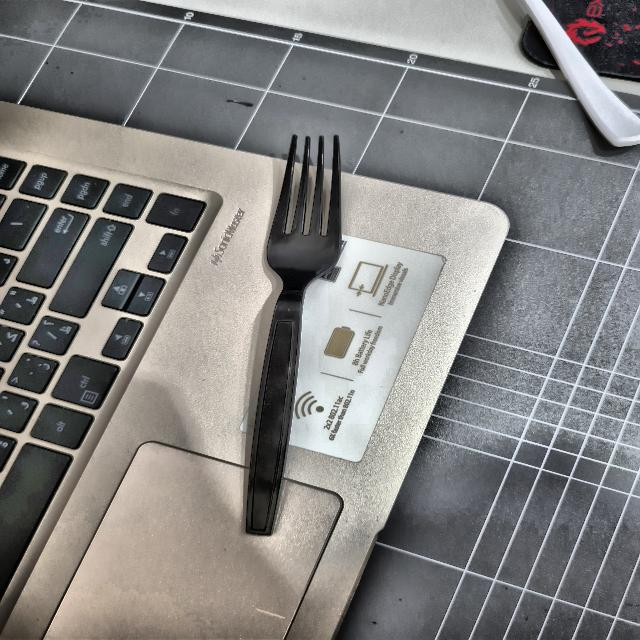plastic utensil: (236, 127, 354, 534)
